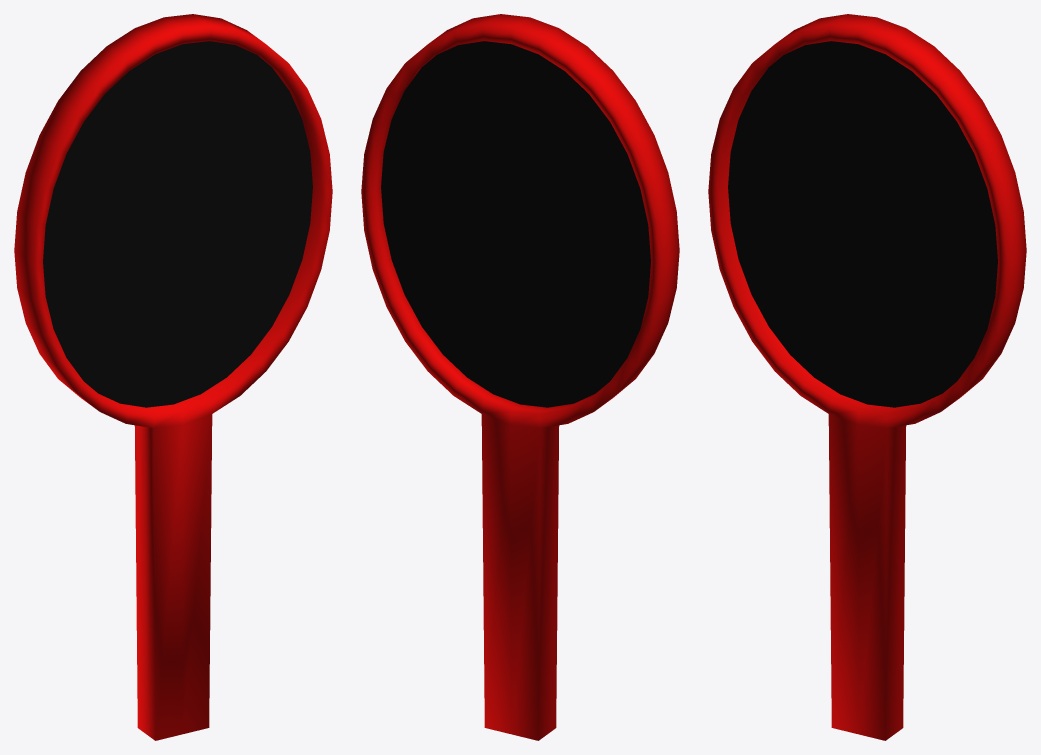
Rendered from Raqueta.fbx.
3 renders of one model, left to right at view 1: azimuth 30°, elevation 25°; view 2: azimuth 150°, elevation 25°; view 3: azimuth 330°, elevation 25°, orthographic.
Parts seen in each view (by area): view 1: Circle; view 2: Circle; view 3: Circle.
Part boxes in pixels (box(x1,y1,x2,y2)): Circle: box(14, 14, 332, 740); Circle: box(361, 14, 679, 740); Circle: box(708, 14, 1026, 740).
Size of the model in its own units: 263 by 590 by 29.2.
